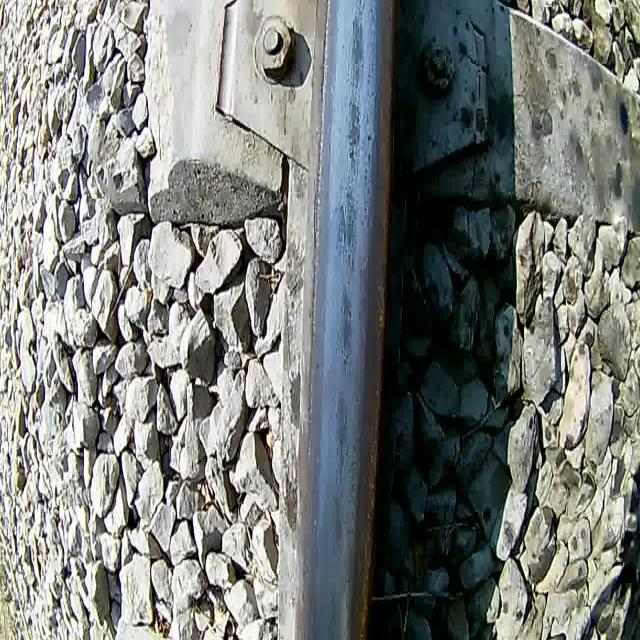Cracks: (345, 11, 361, 97), (332, 434, 352, 488), (344, 140, 364, 182), (337, 335, 353, 384), (336, 200, 348, 251), (345, 232, 357, 274)
Spallings: (346, 102, 362, 162)
Squats: (331, 182, 360, 276), (331, 378, 351, 486), (336, 278, 356, 376), (345, 0, 366, 92), (325, 572, 349, 640), (345, 94, 363, 179), (329, 484, 348, 557)
